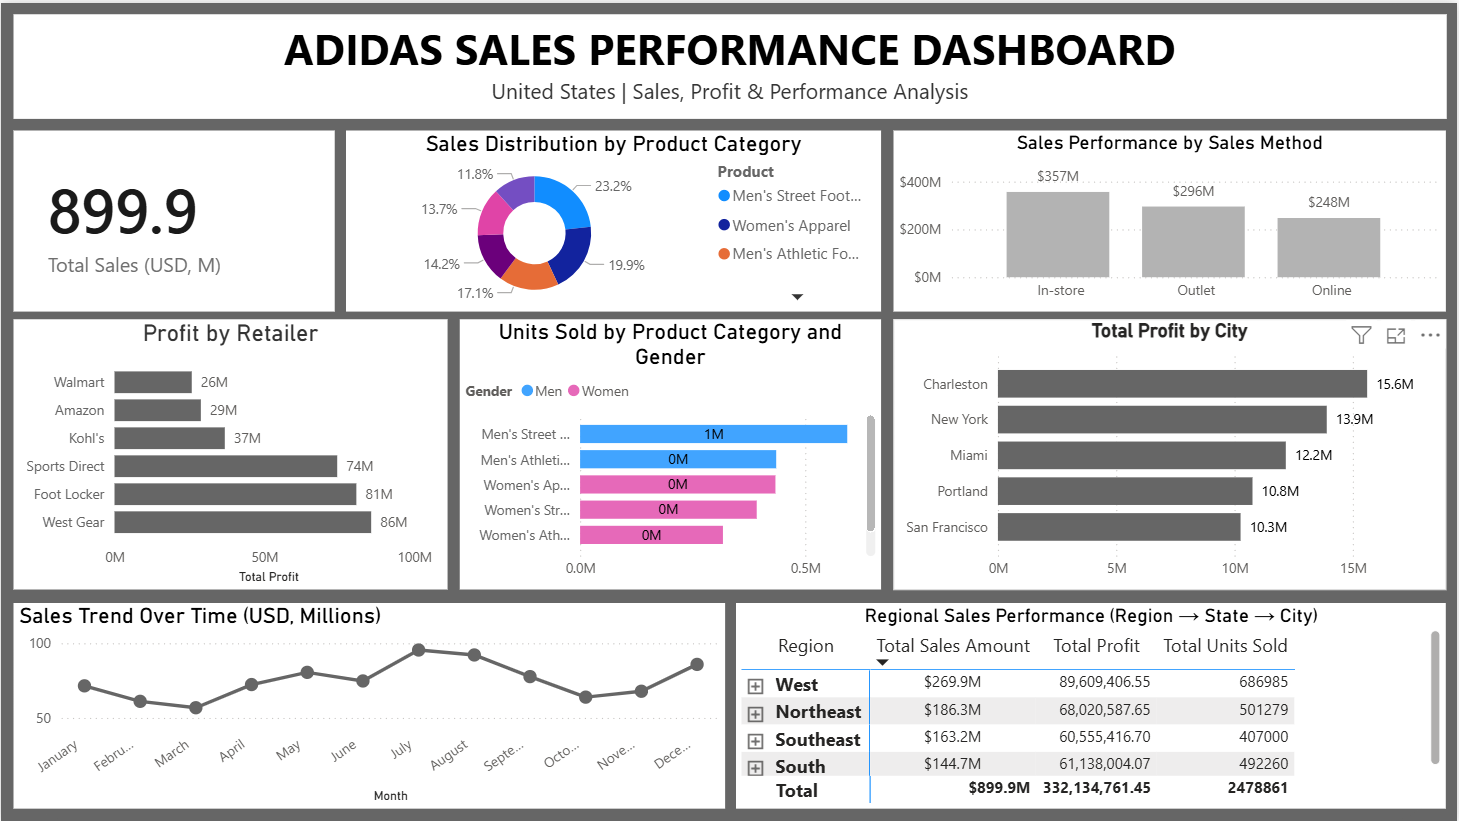

The dashboard page shown, as its layout file describes it:
{"tool":"powerbi","page":{"name":"dashboard","canvas":[1280,720],"ordinal":0},"visuals":[{"type":"shape","box":[11.1,0,1259.2,720.6],"z":0},{"type":"textbox","box":[11,9.6,1259.7,91.9],"z":1000},{"type":"cardVisual","fields":{"Data":["Data Sales Adidas.Total Sales (M)"]},"box":[11,112.5,282.7,159.2],"z":3000},{"type":"clusteredBarChart","title":" Profit by Retailer","fields":{"Category":["Data Sales Adidas.Retailer"],"Y":["Data Sales Adidas.Total Profit"]},"box":[11,278.6,381.5,237.4],"z":4000},{"type":"lineChart","title":"Sales Trend Over Time (USD, Millions)","fields":{"Y":["Data Sales Adidas.Total Sales Trend (M)"],"Category":["Date Table.Date.Variation.Date Hierarchy.Year","Date Table.Date.Variation.Date Hierarchy.Quarter","Date Table.Date.Variation.Date Hierarchy.Month","Date Table.Date.Variation.Date Hierarchy.Day"]},"box":[11,526.9,625.7,181.1],"z":5000},{"type":"donutChart","title":"Sales Distribution by Product Category","fields":{"Category":["Data Sales Adidas.Product"],"Y":["Data Sales Adidas.Total Sales Amount"]},"box":[303.3,112.5,470.7,159.2],"z":6000},{"type":"barChart","title":"Units Sold by Product Category and Gender","fields":{"Series":["Data Sales Adidas.Gender"],"Y":["Data Sales Adidas.Total Units Sold"],"Category":["Data Sales Adidas.Product"]},"box":[403.4,278.6,370.5,237.4],"z":7000},{"type":"clusteredColumnChart","title":"Sales Performance by Sales Method","fields":{"Category":["Data Sales Adidas.Sales Method"],"Y":["Data Sales Adidas.Total Sales Amount"]},"box":[784.9,112.5,485.8,159.2],"z":8000},{"type":"pivotTable","title":"Regional Sales Performance (Region → State → City)","fields":{"Values":["Data Sales Adidas.Total Sales Amount","Data Sales Adidas.Total Profit","Data Sales Adidas.Total Units Sold"],"Rows":["Data Sales Adidas.Region","Data Sales Adidas.State","Data Sales Adidas.City"]},"box":[646.3,526.9,624.4,181.1],"z":9000},{"type":"clusteredBarChart","fields":{"Category":["Data Sales Adidas.City"],"Y":["Data Sales Adidas.Total Profit"]},"box":[784.9,278.6,485.8,237.4],"z":10000}]}

Visuals, with their boxes in screenshot pixels (x1, y1, x2, y2), scaled from the page's 1280x720 canvas onto the 1459x821 screenshot:
shape: x1=13, y1=0, x2=1448, y2=820
textbox: x1=13, y1=11, x2=1448, y2=116
cardVisual - Data Sales Adidas.Total Sales (M): x1=13, y1=128, x2=335, y2=310
" Profit by Retailer" clusteredBarChart: x1=13, y1=318, x2=447, y2=588
"Sales Trend Over Time (USD, Millions)" lineChart: x1=13, y1=601, x2=726, y2=807
"Sales Distribution by Product Category" donutChart: x1=346, y1=128, x2=882, y2=310
"Units Sold by Product Category and Gender" barChart: x1=460, y1=318, x2=882, y2=588
"Sales Performance by Sales Method" clusteredColumnChart: x1=895, y1=128, x2=1448, y2=310
"Regional Sales Performance (Region → State → City)" pivotTable: x1=737, y1=601, x2=1448, y2=807
clusteredBarChart - Data Sales Adidas.City x Data Sales Adidas.Total Profit: x1=895, y1=318, x2=1448, y2=588
